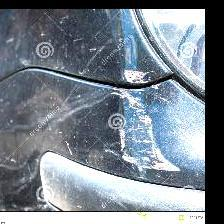bumper_scratch: (88, 31, 187, 188)
